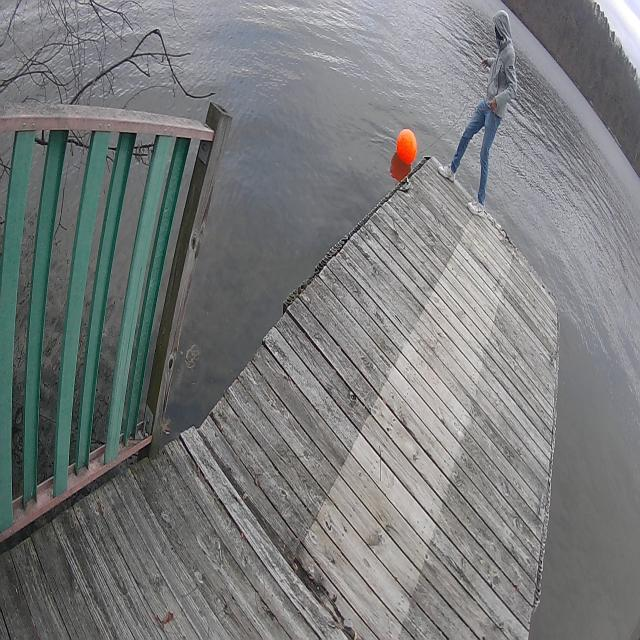Buoy: (392, 126, 415, 173)
